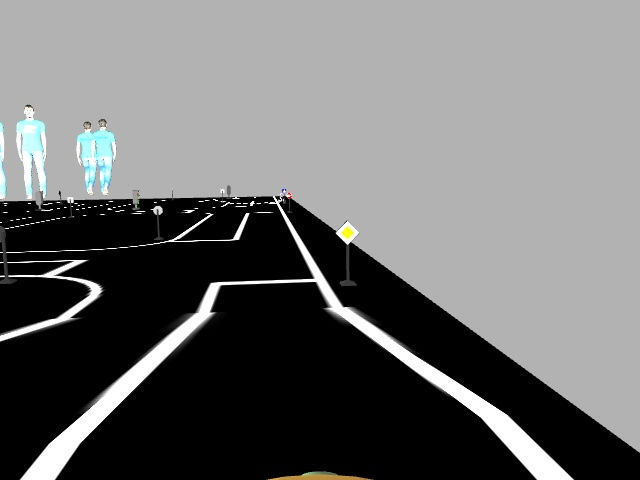Priority: (330, 219, 360, 244)
